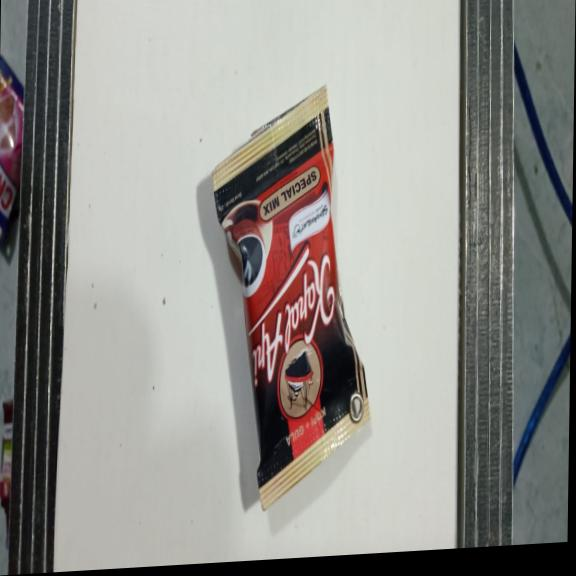Plastik: (206, 86, 374, 511)
